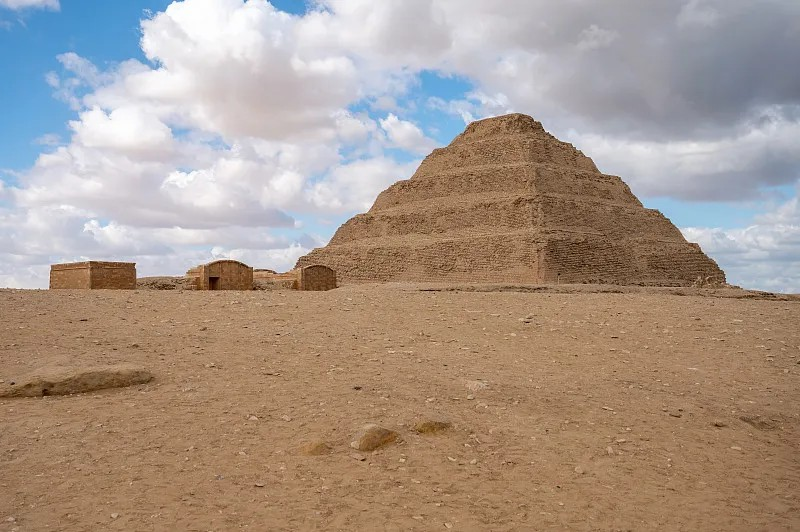Pyramid: (293, 113, 729, 288)
